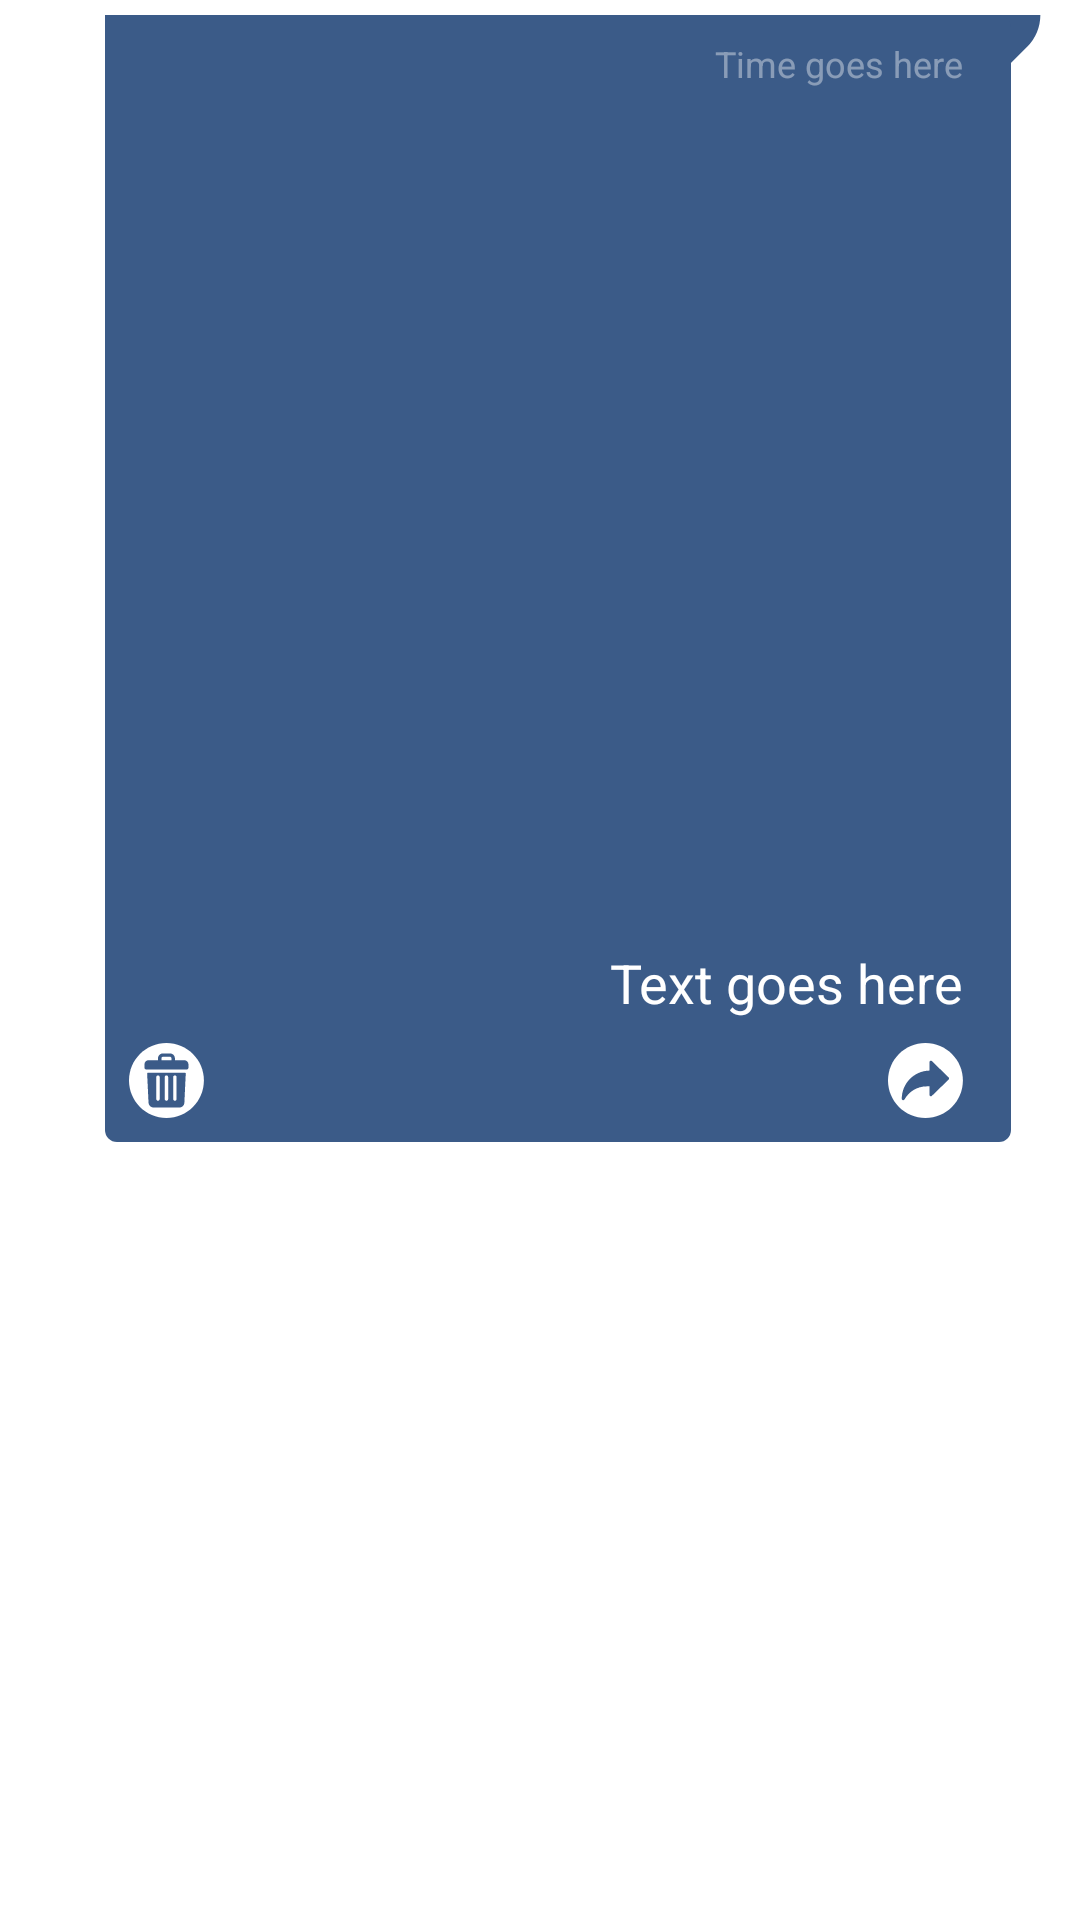

Named icons in this screenshot (1080 x 1920) and their bounding boxes, (x1, y1, x2, y2):
delete: (129, 1043, 204, 1118)
